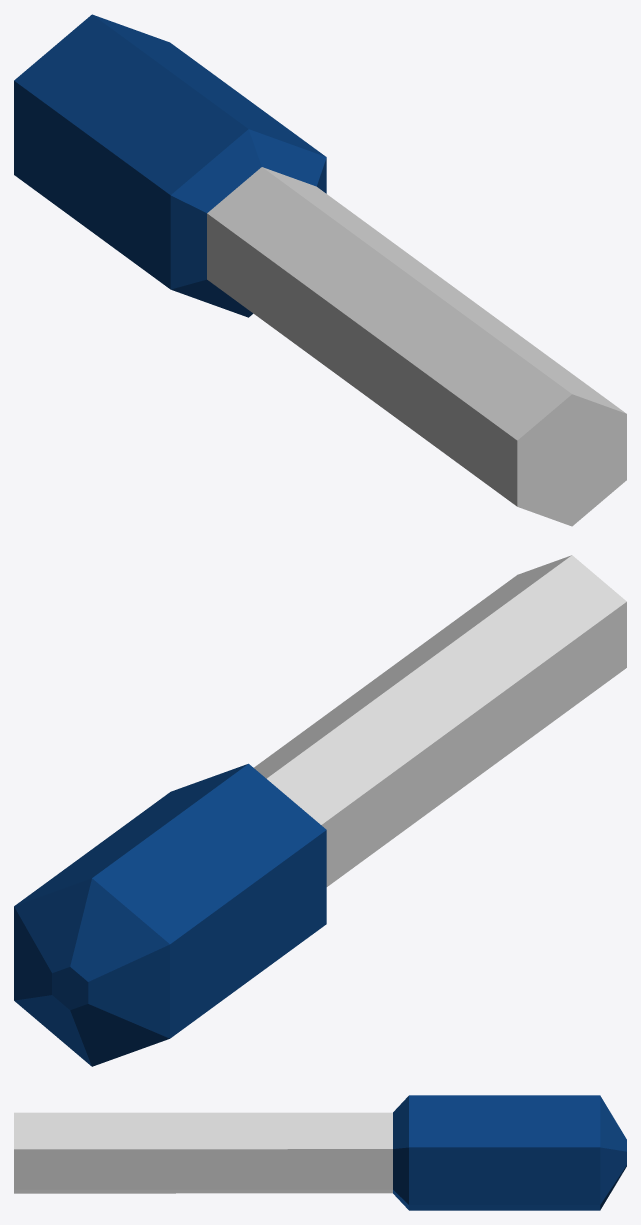
The model's file is PenMarkerV2Blue.fbx.
3 renders of one model, top to bottom at view 1: azimuth 30°, elevation 25°; view 2: azimuth 150°, elevation 25°; view 3: azimuth 270°, elevation 25°, orthographic. The views are drawn at different scales.
Parts seen in each view (by area): view 1: PenMarkerV2Blue; view 2: PenMarkerV2Blue; view 3: PenMarkerV2Blue.
Boxes of the visible parts, <box> form: PenMarkerV2Blue: <box>14,14,626,526</box>; PenMarkerV2Blue: <box>14,555,626,1066</box>; PenMarkerV2Blue: <box>14,1095,626,1210</box>.
Size of the model in its own units: 1.93 by 2.23 by 10.74.
